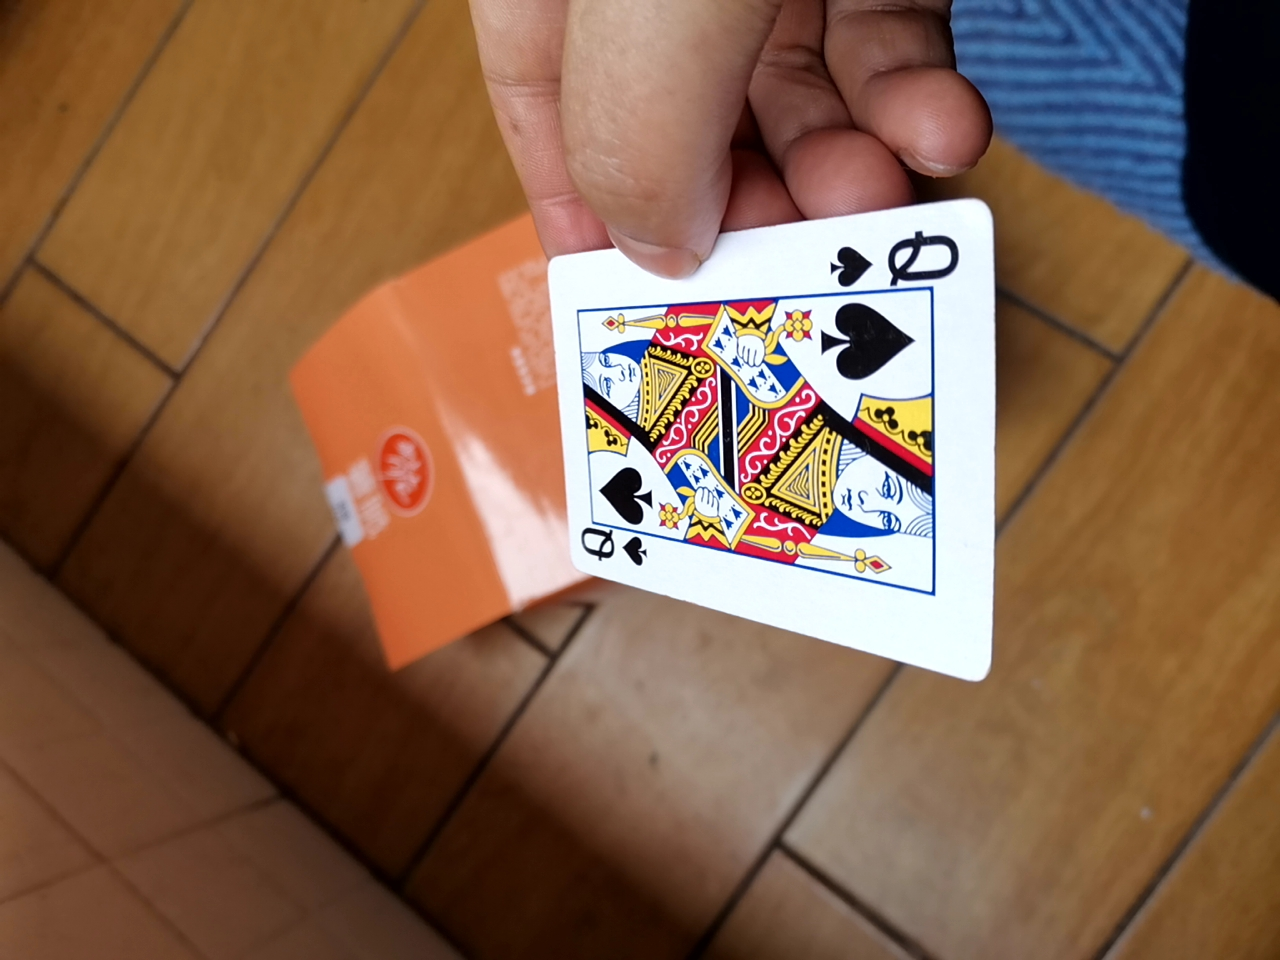ht q: (496, 208, 994, 672)
